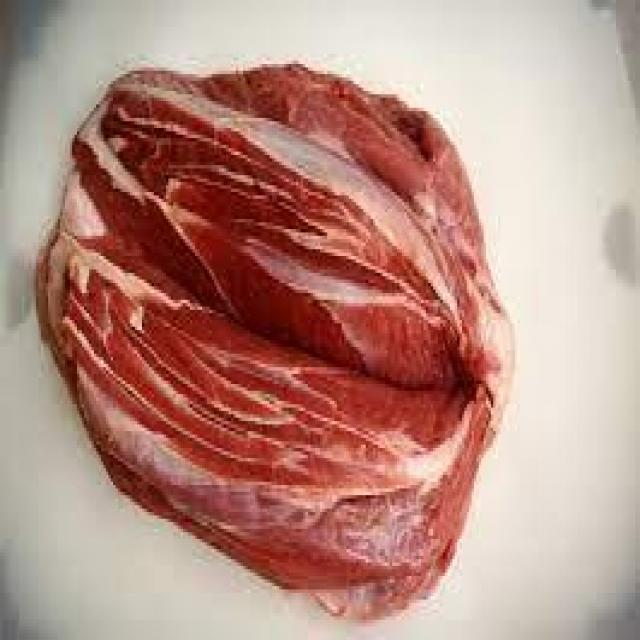beef: (41, 30, 510, 640)
